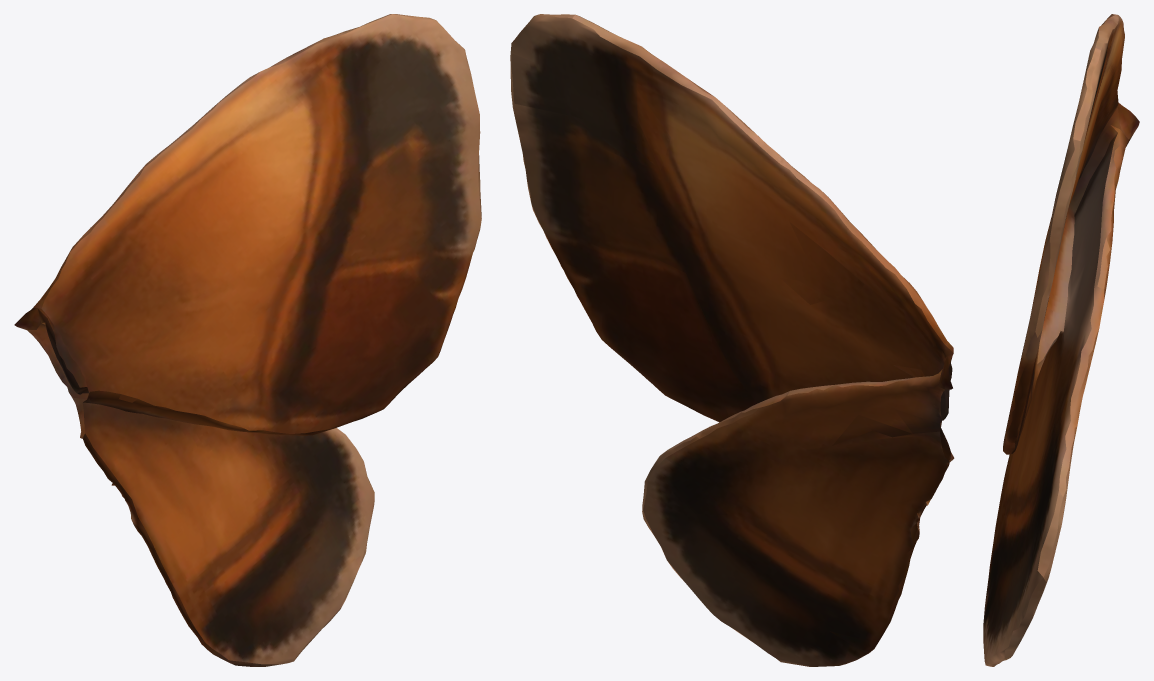
The model's file is moth_flap_right_wing.glb.
The picture shows the model from 3 angles, left to right: view 1: azimuth 30°, elevation 25°; view 2: azimuth 150°, elevation 25°; view 3: azimuth 270°, elevation 25°; orthographic projection. The views are drawn at different scales.
Visible parts, largest first — view 1: world; view 2: world; view 3: world.
Boxes of the visible parts, left/top/right/bottom form: world: left=14, top=14, right=481, bottom=666; world: left=510, top=14, right=954, bottom=666; world: left=983, top=14, right=1139, bottom=666.
Bounding box in the file's own units: 0.2851 × 0.368 × 0.0741.
1 material, 1 textured.
